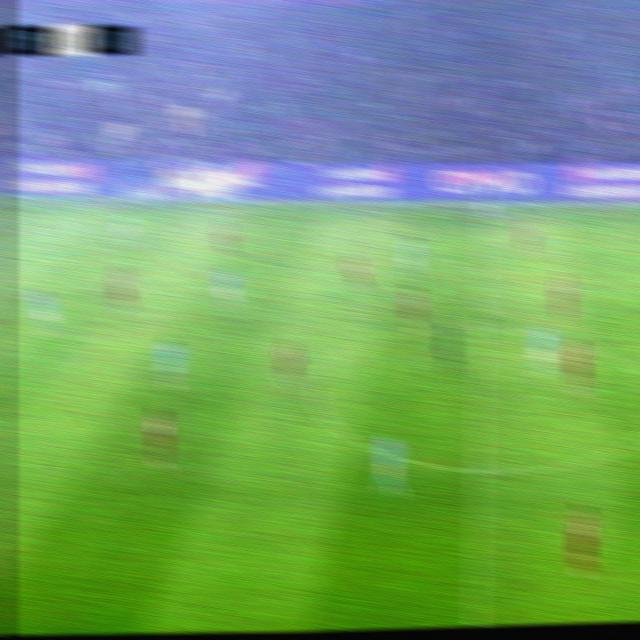halfcircle_bottom: (459, 452, 494, 485)
halfcircle_top: (463, 313, 496, 339)
